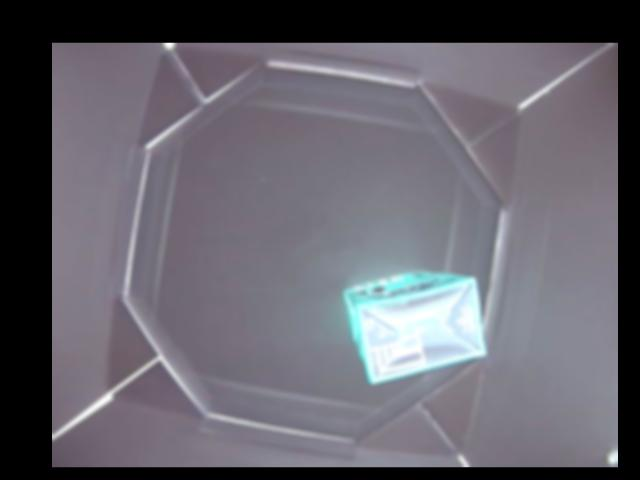Bottle: (344, 270, 488, 382)
